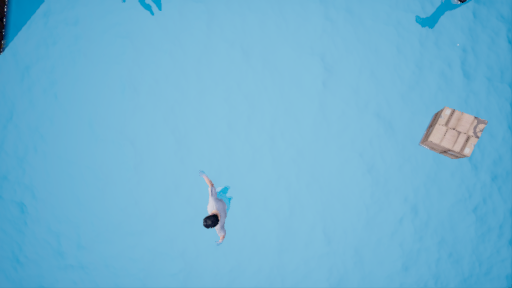person: (190, 172, 244, 247)
